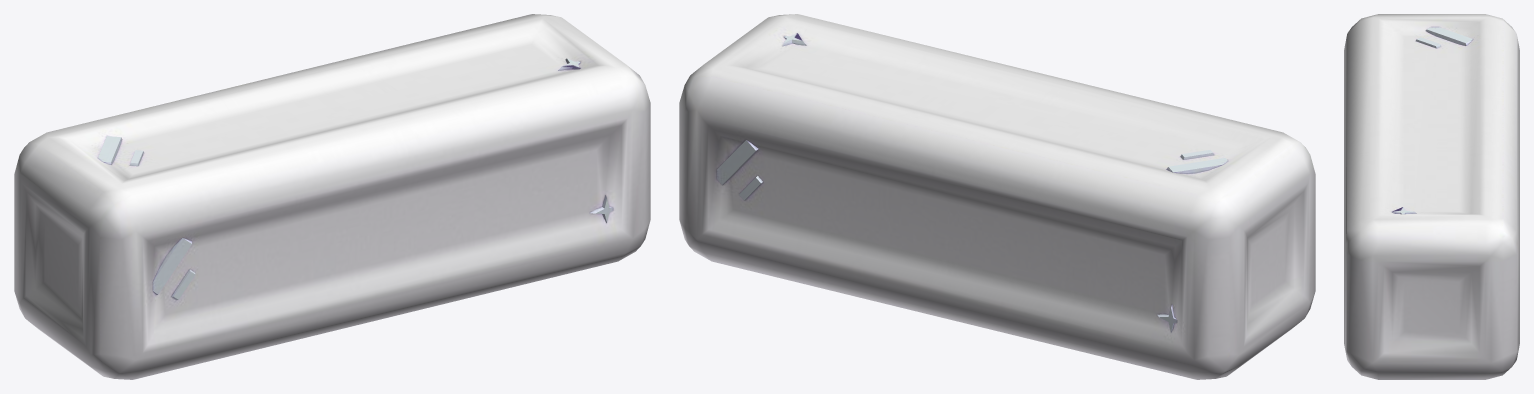
File: buz3.glb
3 views of the same model, side by side, from view 1: azimuth 30°, elevation 25°; view 2: azimuth 150°, elevation 25°; view 3: azimuth 270°, elevation 25° (orthographic). The views are drawn at different scales.
Visible parts, largest first — view 1: buz3; view 2: buz3; view 3: buz3.
Part boxes in pixels (x1,y1,x2,y2): buz3: [14, 14, 650, 379]; buz3: [679, 14, 1315, 379]; buz3: [1344, 14, 1519, 379].
Size of the model in its own units: 4.6 by 1.51 by 1.51.
1 material, 1 textured.
